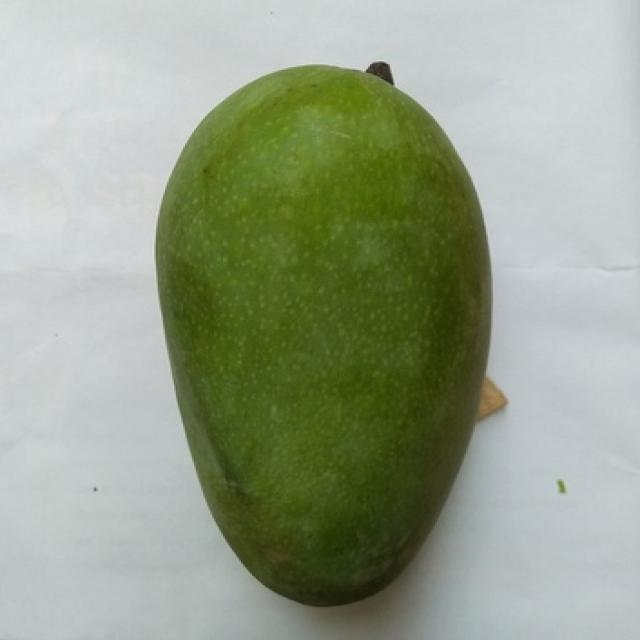Mango: (158, 65, 490, 606)
